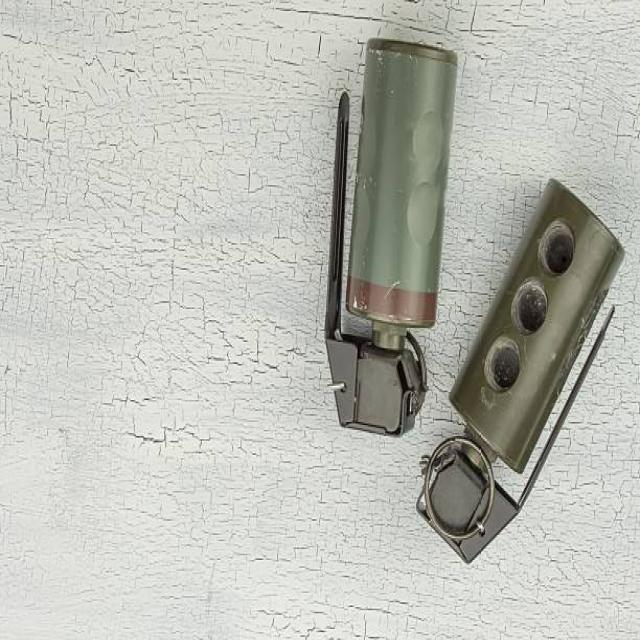grenade: (416, 177, 627, 572), (320, 38, 466, 442)
